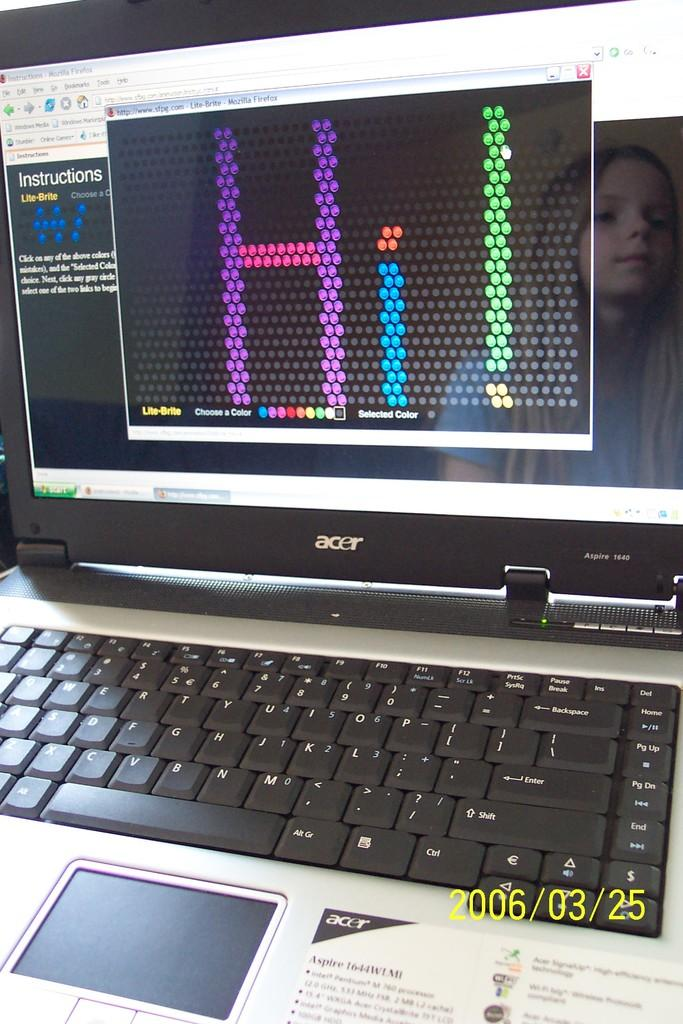Computer-keyboard: (0, 612, 680, 936)
